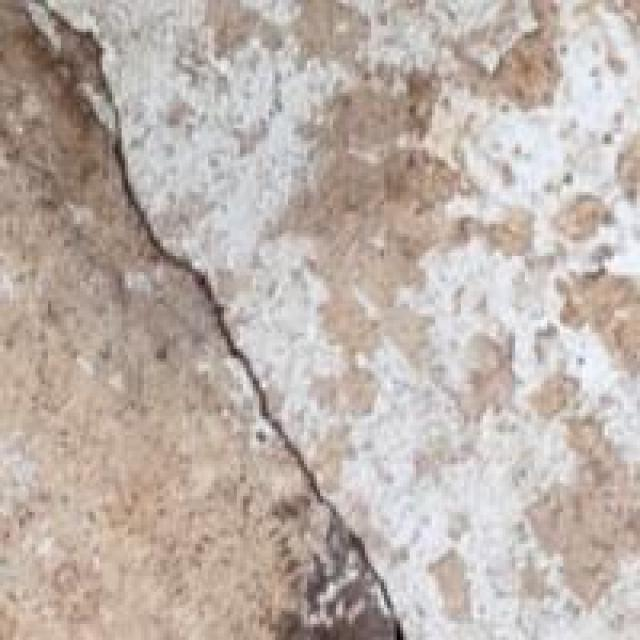crack: (48, 0, 445, 637)
